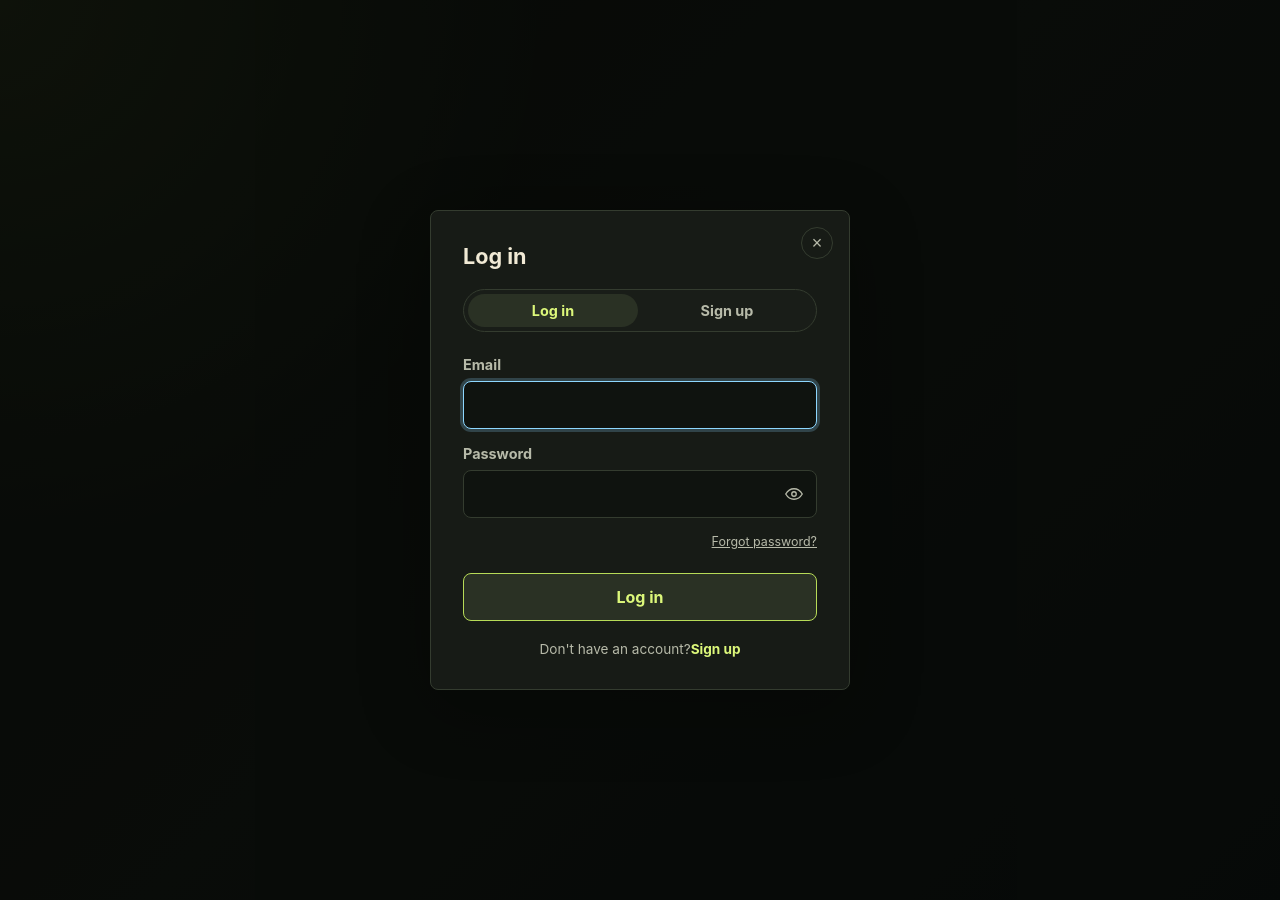
Test: AuthModal — submit outcomes › shows the server error message and re-enables submit after a failed login
Step 1. Type "frog@example.com" into the field with id "authEmail" → (640, 405), box [463, 381, 817, 429]
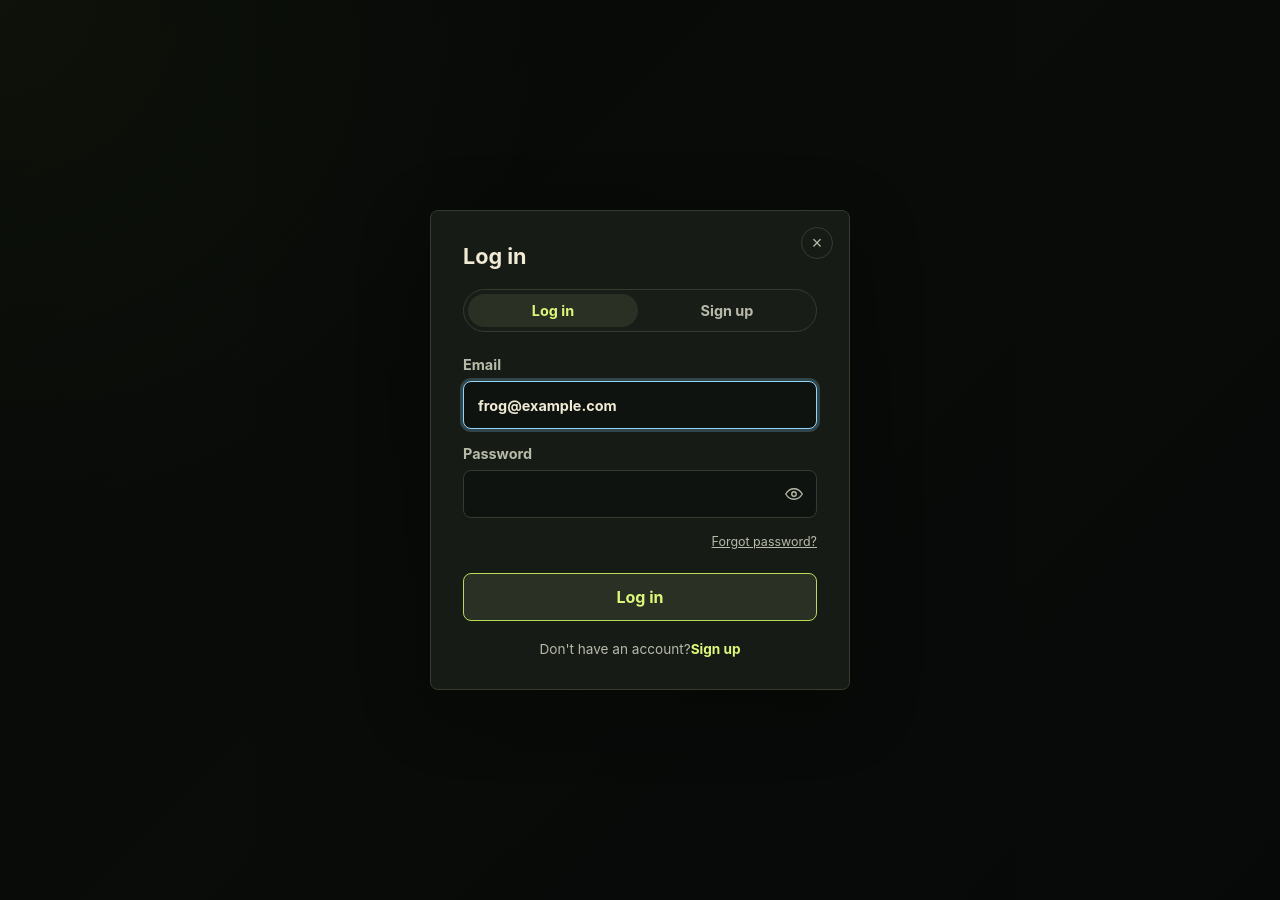
Step 2. Type "wrongpass" into the password field with id "authPassword" → (640, 494), box [463, 470, 817, 518]
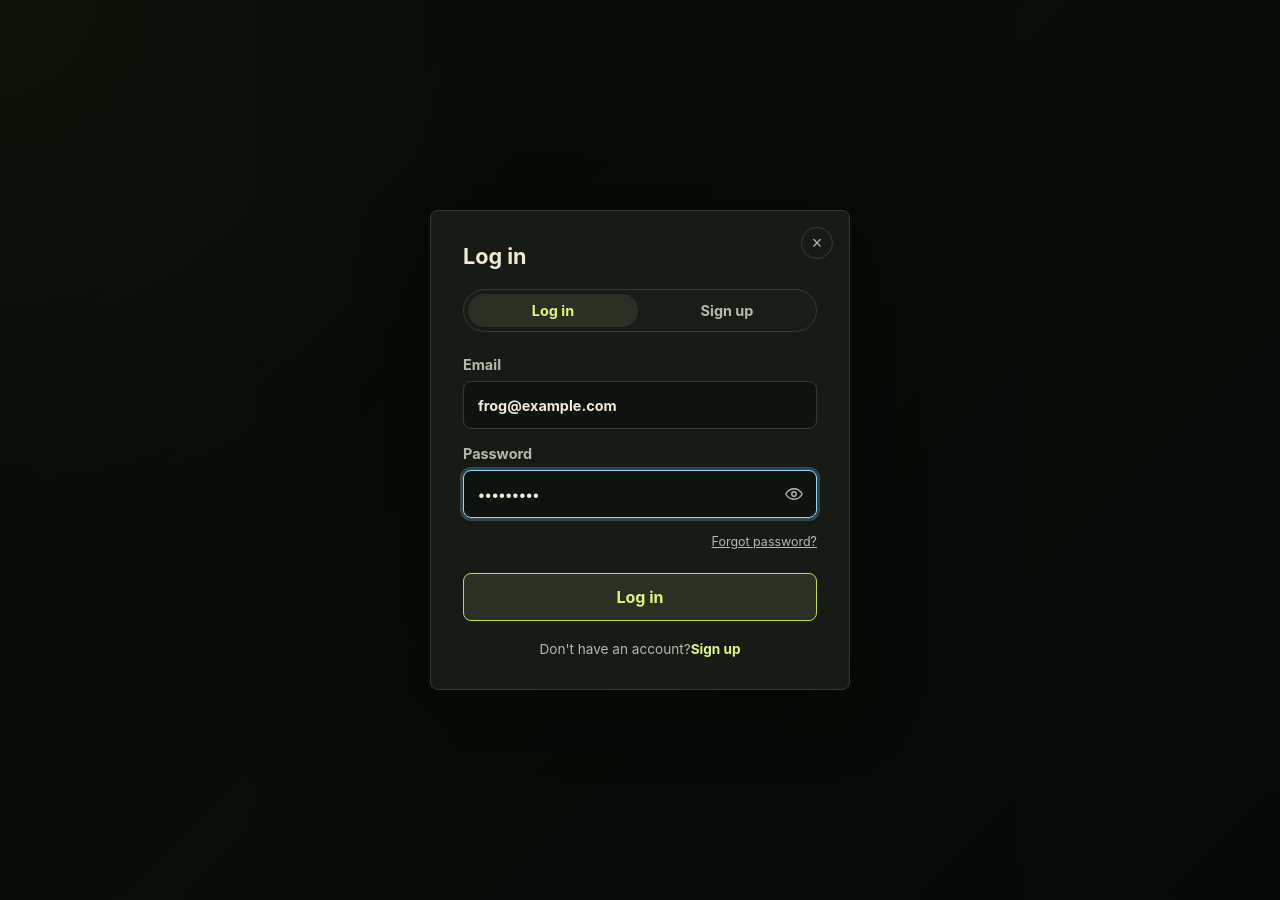
Step 3. Click the button "Log in" → (640, 597), box [463, 573, 817, 621]
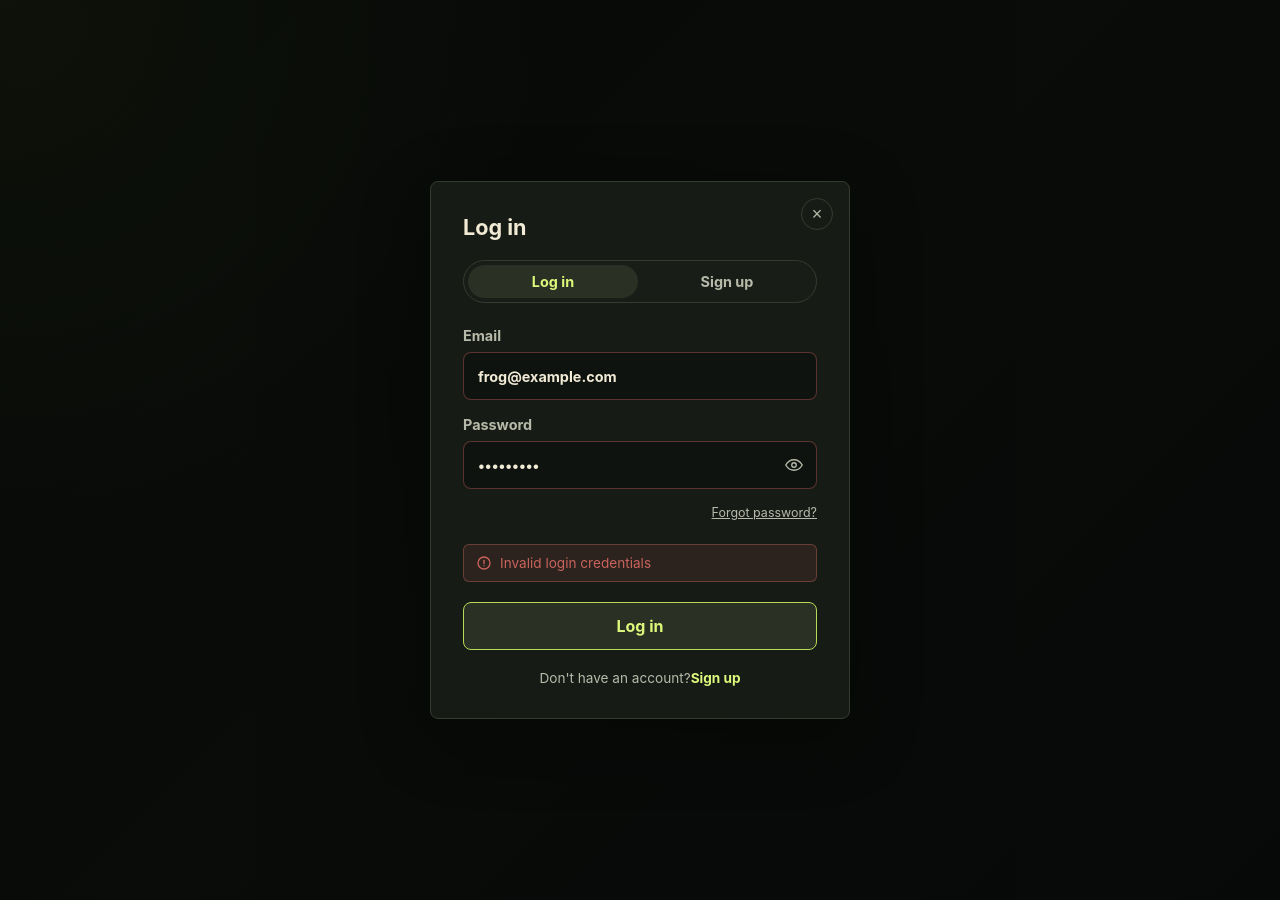
Check: the button "Log in" is enabled, box [463, 602, 817, 650]
Check: the text "Invalid login credentials" is shown, box [463, 544, 817, 582]
